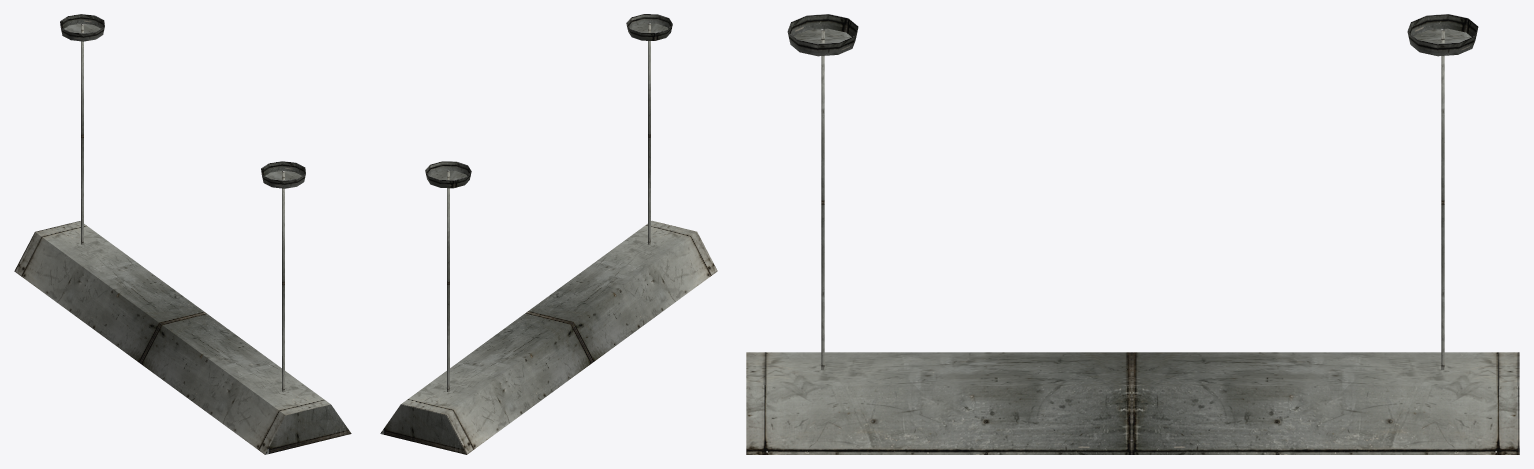
Rendered from lamp_B.fbx.
3 views of the same model, side by side, from view 1: azimuth 30°, elevation 25°; view 2: azimuth 150°, elevation 25°; view 3: azimuth 270°, elevation 25° (orthographic). The views are drawn at different scales.
Parts seen in each view (by area): view 1: lamp_B; view 2: lamp_B; view 3: lamp_B.
Boxes of the visible parts, box(x1,y1,x2,y2) form: lamp_B: box(14, 14, 351, 454); lamp_B: box(380, 14, 717, 454); lamp_B: box(746, 14, 1519, 454).
Size of what is drawn, in the model's own units: 38.77 by 109 by 195.
